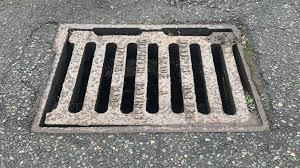open drainage-not overflowing-: (37, 16, 277, 139)
